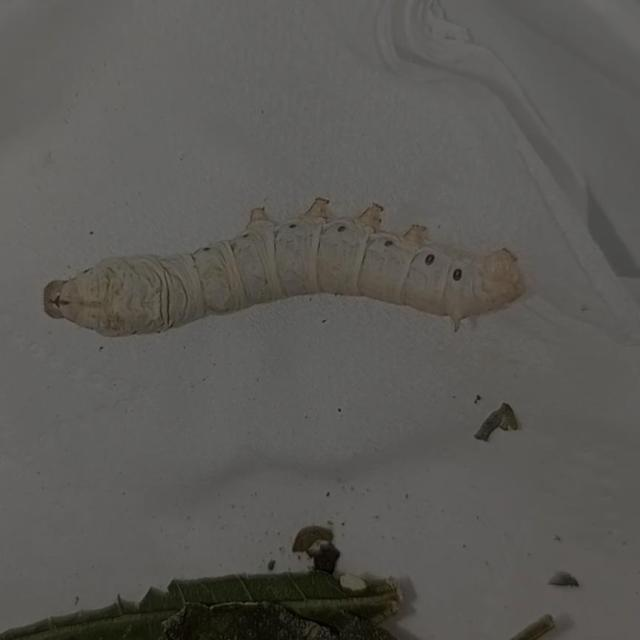Healthy: (28, 152, 552, 388)
